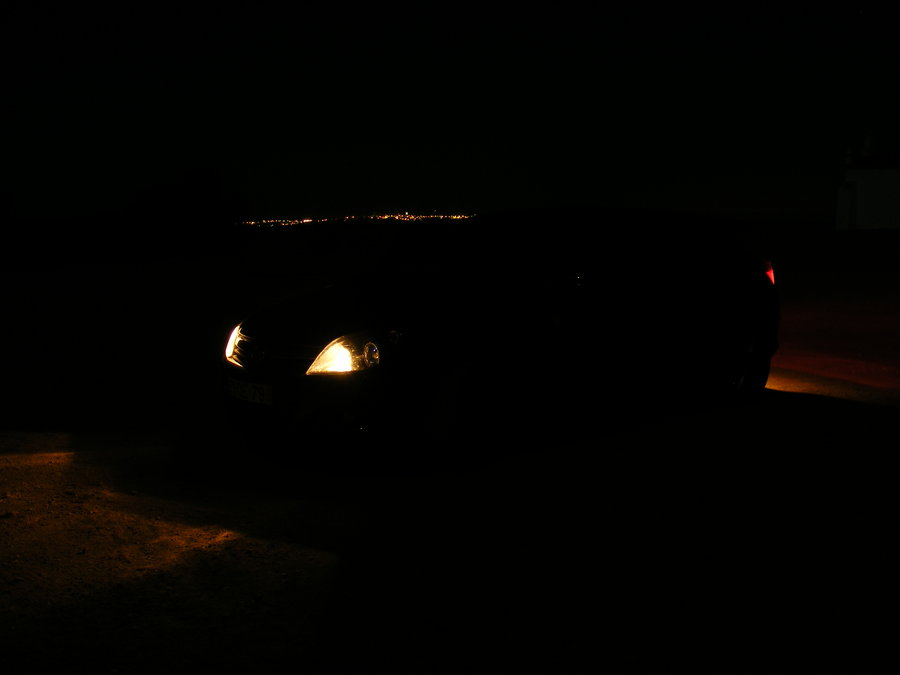car: (206, 196, 801, 443)
